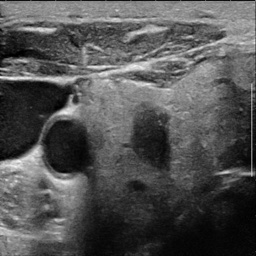mass: (131, 102, 171, 173)
